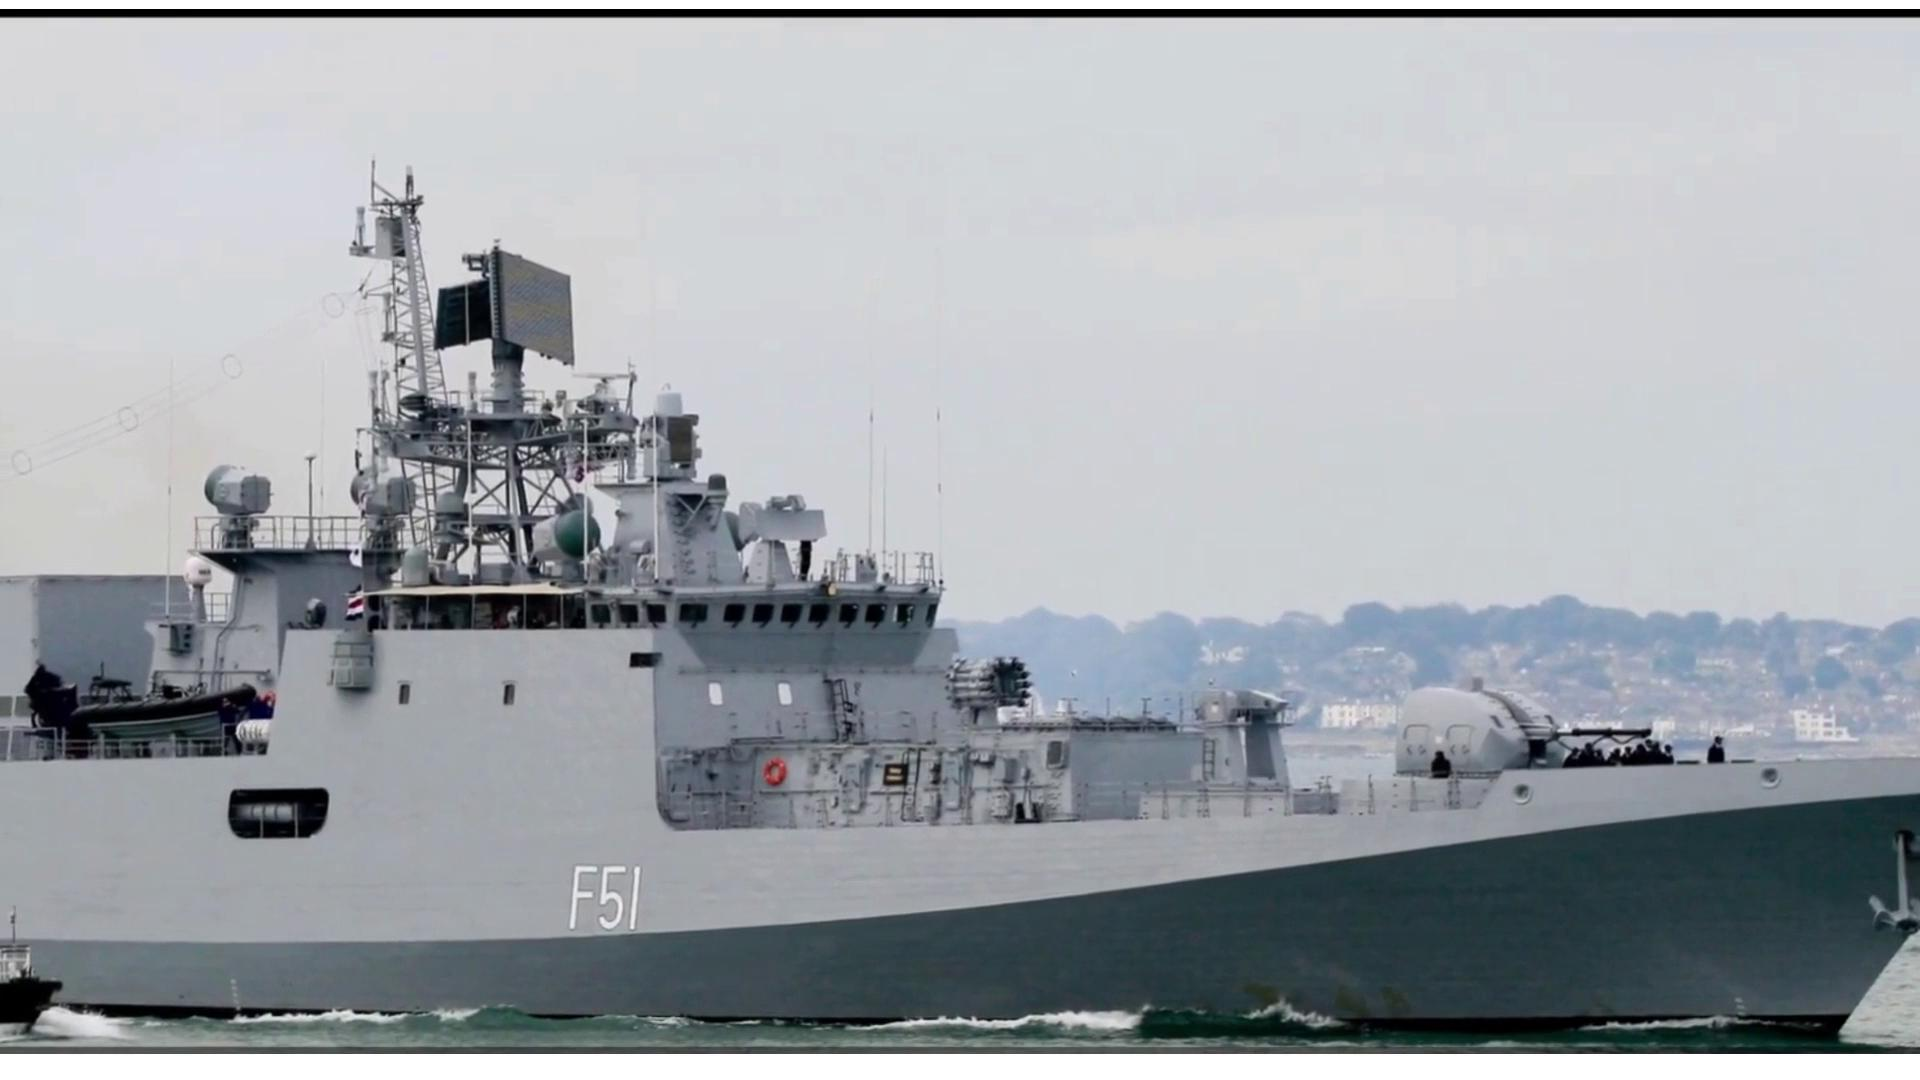OCR: (555, 855, 658, 943)
